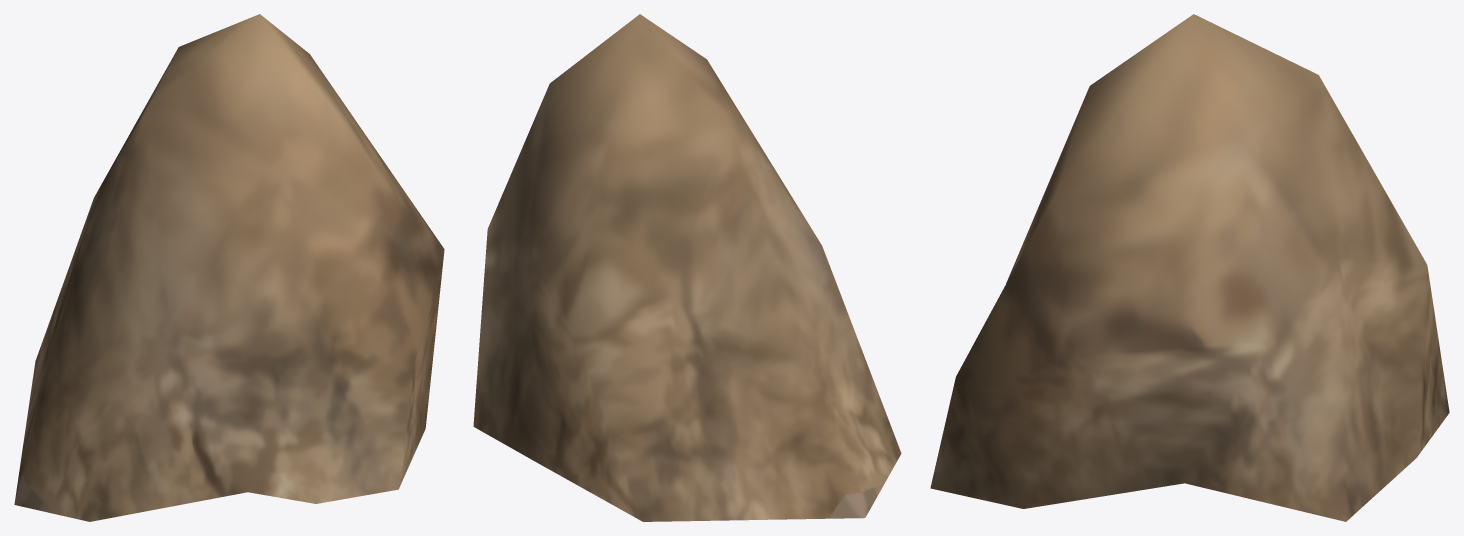
The model's file is rock3.fbx.
3 renders of one model, left to right at view 1: azimuth 30°, elevation 25°; view 2: azimuth 150°, elevation 25°; view 3: azimuth 270°, elevation 25°, orthographic. The views are drawn at different scales.
Visible parts, largest first — view 1: rock3; view 2: rock3; view 3: rock3.
Boxes of the visible parts, <box> form: rock3: <box>14,14,444,521</box>; rock3: <box>473,14,901,521</box>; rock3: <box>930,14,1449,521</box>.
Bounding box in the file's own units: 955 × 1088 × 1005.
1 material, 1 textured.
